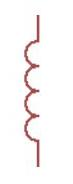inductor: (18, 24, 54, 147)
